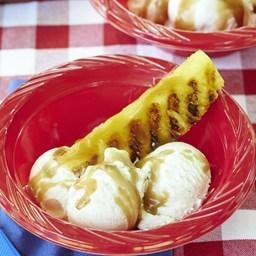background: (11, 19, 90, 92), (51, 0, 102, 13)
